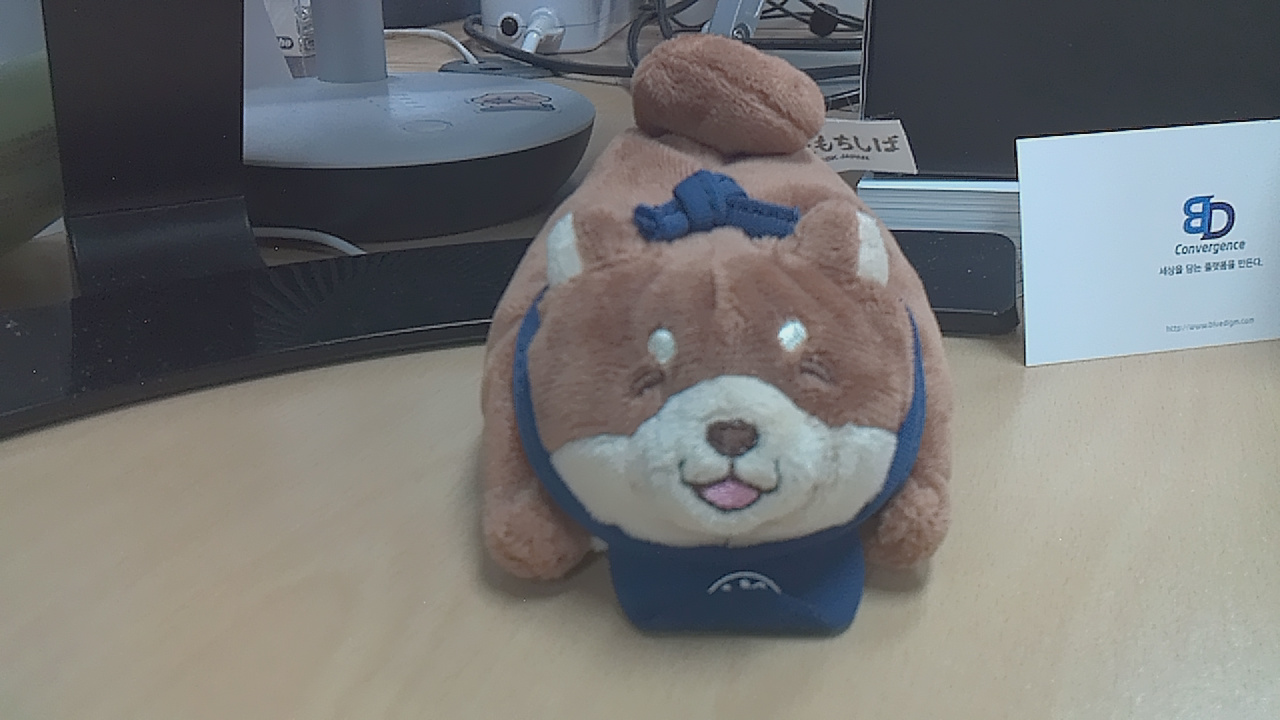cuteDog: (436, 33, 973, 663)
